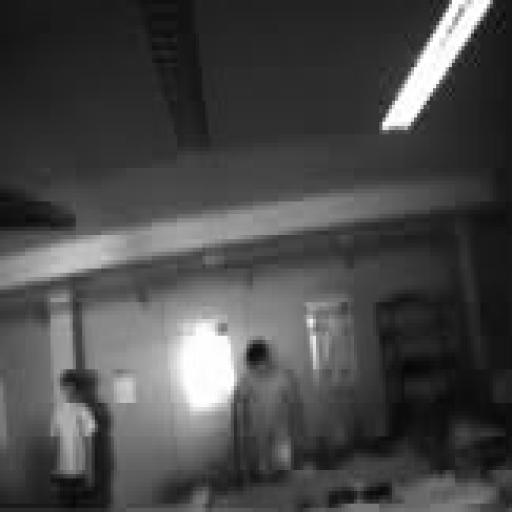human: (234, 340, 303, 482), (51, 370, 97, 507)
